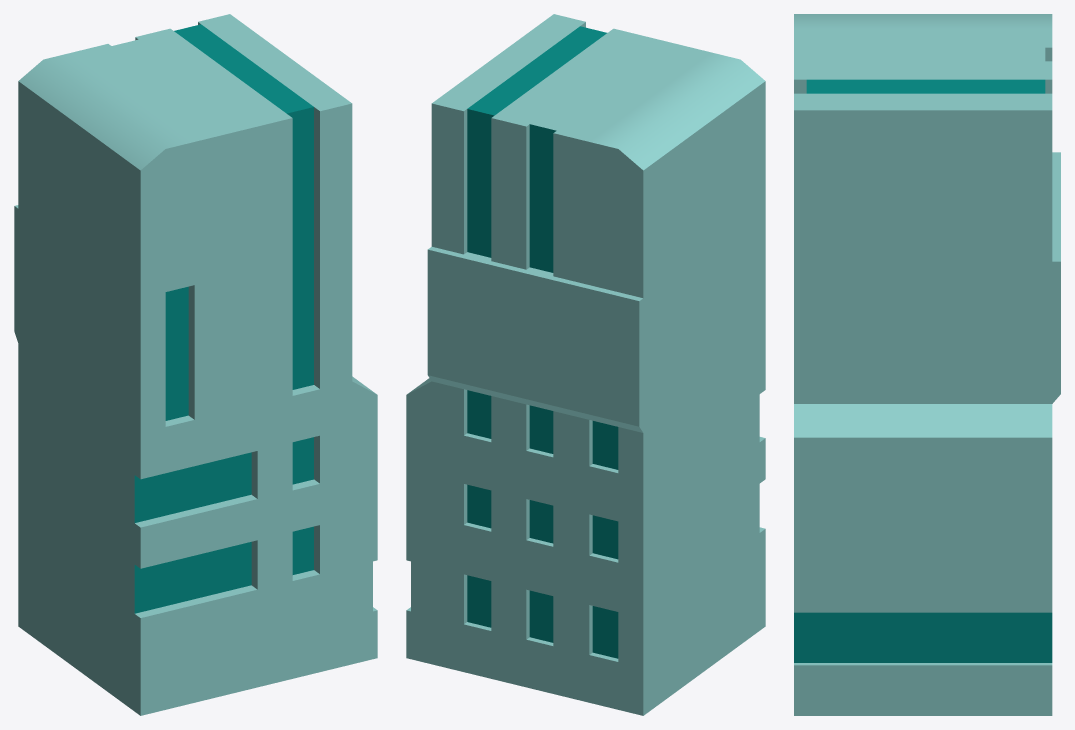
File: bat_5.FBX
3 views of the same model, side by side, from view 1: azimuth 30°, elevation 25°; view 2: azimuth 150°, elevation 25°; view 3: azimuth 270°, elevation 25° (orthographic). The views are drawn at different scales.
Parts seen in each view (by area): view 1: Box001; view 2: Box001; view 3: Box001.
Boxes of the visible parts, box(x1,y1,x2,y2) form: Box001: box(14, 14, 377, 715); Box001: box(406, 14, 765, 715); Box001: box(794, 14, 1060, 715).
Size of the model in its own units: 44.08 by 99.68 by 40.65.
